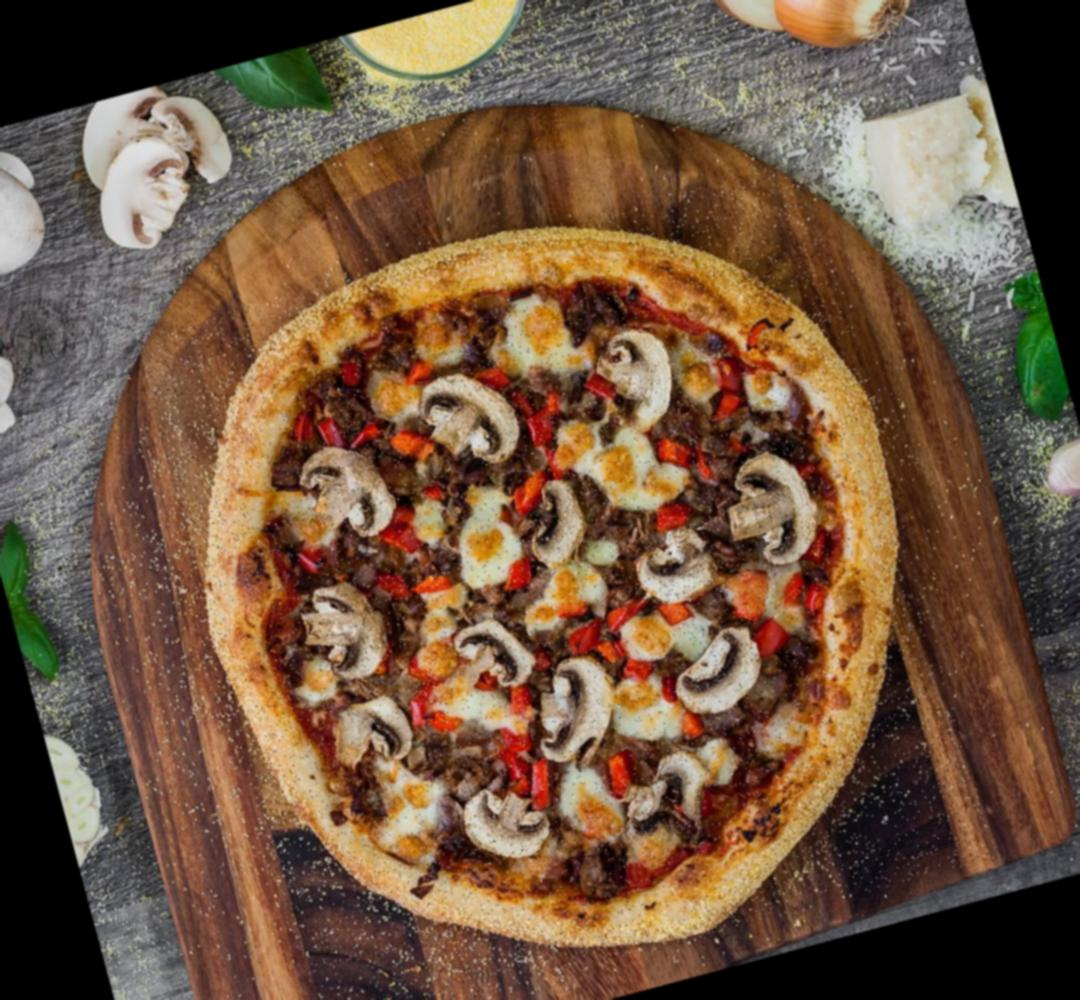Mushroom: (715, 444, 828, 576), (522, 650, 632, 776), (413, 358, 526, 478), (292, 434, 404, 554), (297, 574, 396, 692), (663, 622, 772, 726), (590, 324, 686, 438), (619, 746, 721, 842), (459, 776, 558, 872), (629, 519, 726, 609), (518, 474, 600, 576), (324, 692, 418, 778), (450, 613, 540, 702)
Peppers: (494, 719, 558, 814), (396, 648, 446, 732), (374, 502, 434, 562), (699, 353, 751, 420), (524, 391, 572, 450), (780, 567, 830, 620), (388, 424, 435, 472), (508, 470, 554, 518), (752, 614, 796, 658), (601, 596, 650, 634), (604, 754, 644, 800), (564, 618, 609, 658), (376, 566, 414, 606), (497, 555, 536, 593), (656, 434, 694, 471), (742, 314, 777, 353), (409, 568, 454, 598), (658, 598, 696, 630), (318, 415, 348, 454), (348, 422, 384, 448), (678, 710, 706, 743), (804, 530, 830, 564), (402, 358, 436, 383), (506, 686, 534, 716), (298, 544, 322, 575)
Pizza: (134, 156, 995, 1000)
